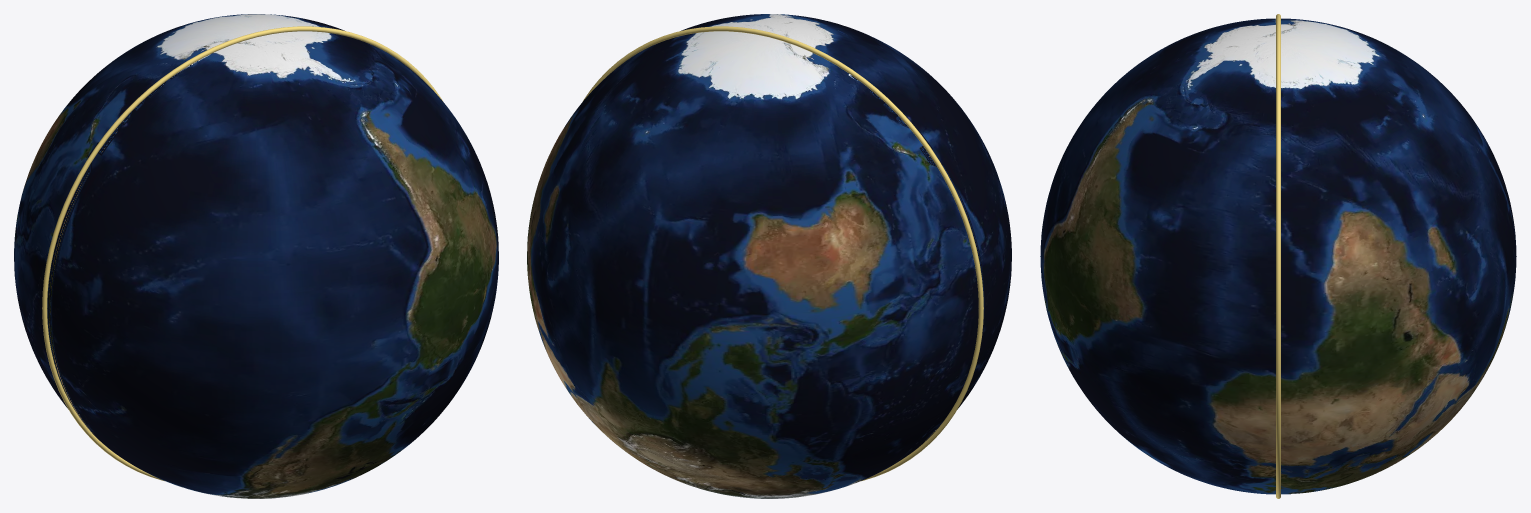
File: rotation.glb
3 views of the same model, side by side, from view 1: azimuth 30°, elevation 25°; view 2: azimuth 150°, elevation 25°; view 3: azimuth 270°, elevation 25° (orthographic).
Visible parts, largest first — view 1: Rotation_Earth, Rotation_Terminator; view 2: Rotation_Earth, Rotation_Terminator; view 3: Rotation_Earth, Rotation_Terminator.
Part boxes in pixels (x1,y1,x2,y2): Rotation_Earth: [14, 14, 498, 498]; Rotation_Terminator: [42, 26, 442, 481]; Rotation_Earth: [527, 14, 1011, 498]; Rotation_Terminator: [583, 26, 983, 481]; Rotation_Earth: [1040, 18, 1516, 494]; Rotation_Terminator: [1276, 14, 1280, 498].
Bounding box in the file's own units: 2.34 × 2.34 × 2.3.
Materials: 2 (1 with a texture image).
